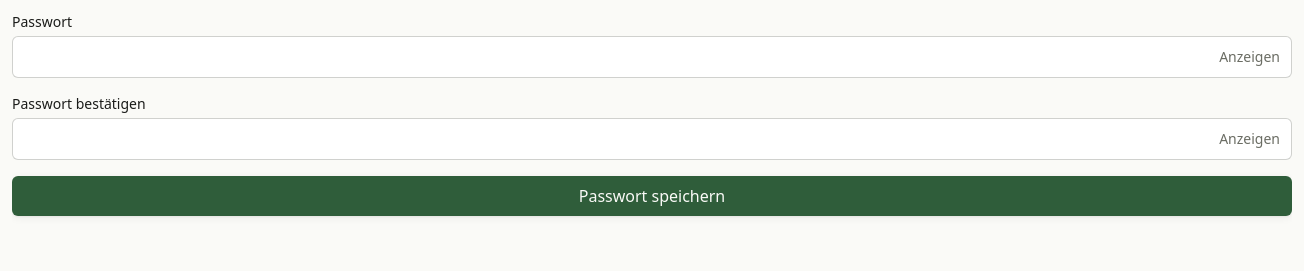
Test: blocks submit and warns on mismatch
Type "passwort-eins" into the password field labelled "Passwort" at (652, 57), box [12,36,1292,78]
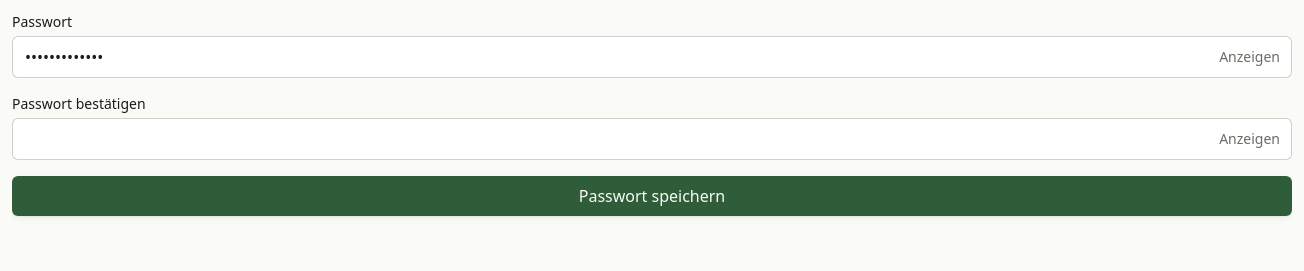
Type "passwort-zwei" into the password field labelled "Passwort bestätigen" at (652, 139), box [12,118,1292,160]
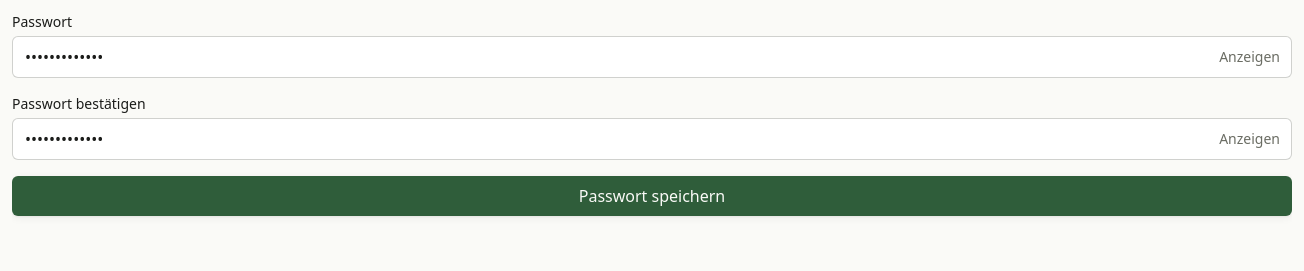
Click the button "Passwort speichern" at (652, 196), box [12,176,1292,216]
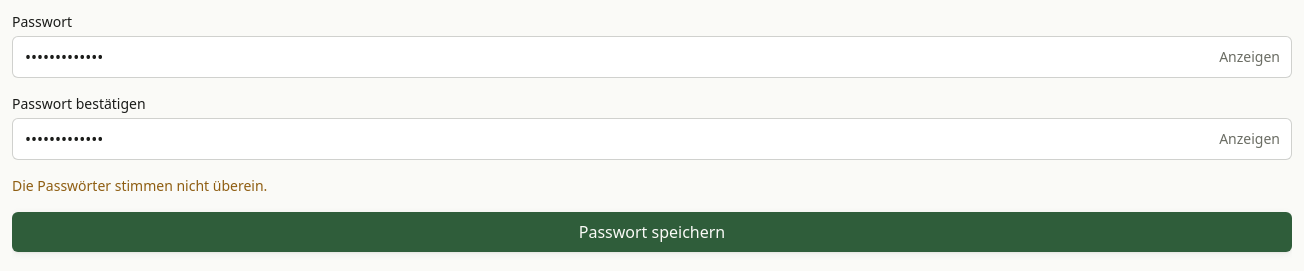
Result: the message reads "Die Passwörter stimmen nicht überein." at [12,176,267,195]
